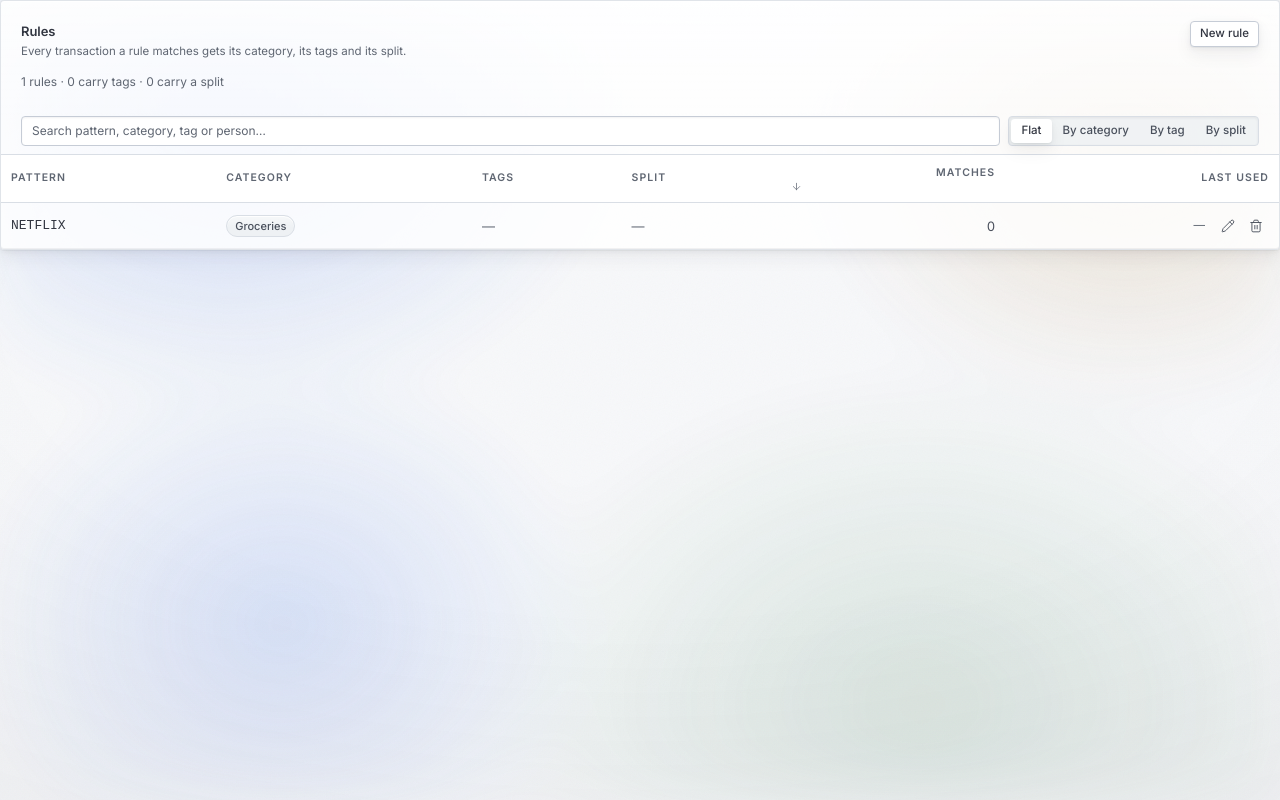
Scenario: MappingsSection CRUD › cancels an inline edit without saving
Expected: the text "NETFLIX" is shown, [1,202,216,249]
Click the button named "edit rule for NETFLIX": {"x": 1228, "y": 226} [1215,213,1241,239]
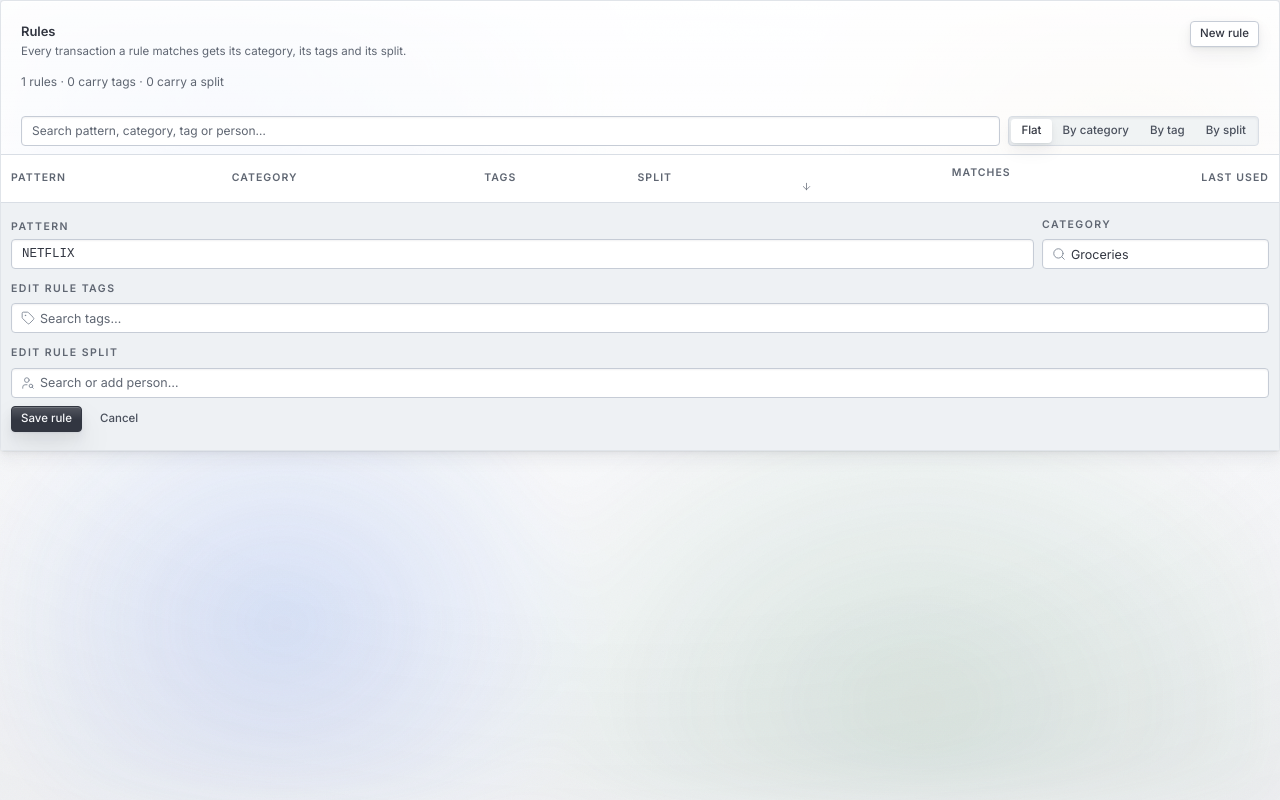
In the field named "Edit rule pattern": {"x": 522, "y": 254} [11,239,1034,269], type " MODIFIED"
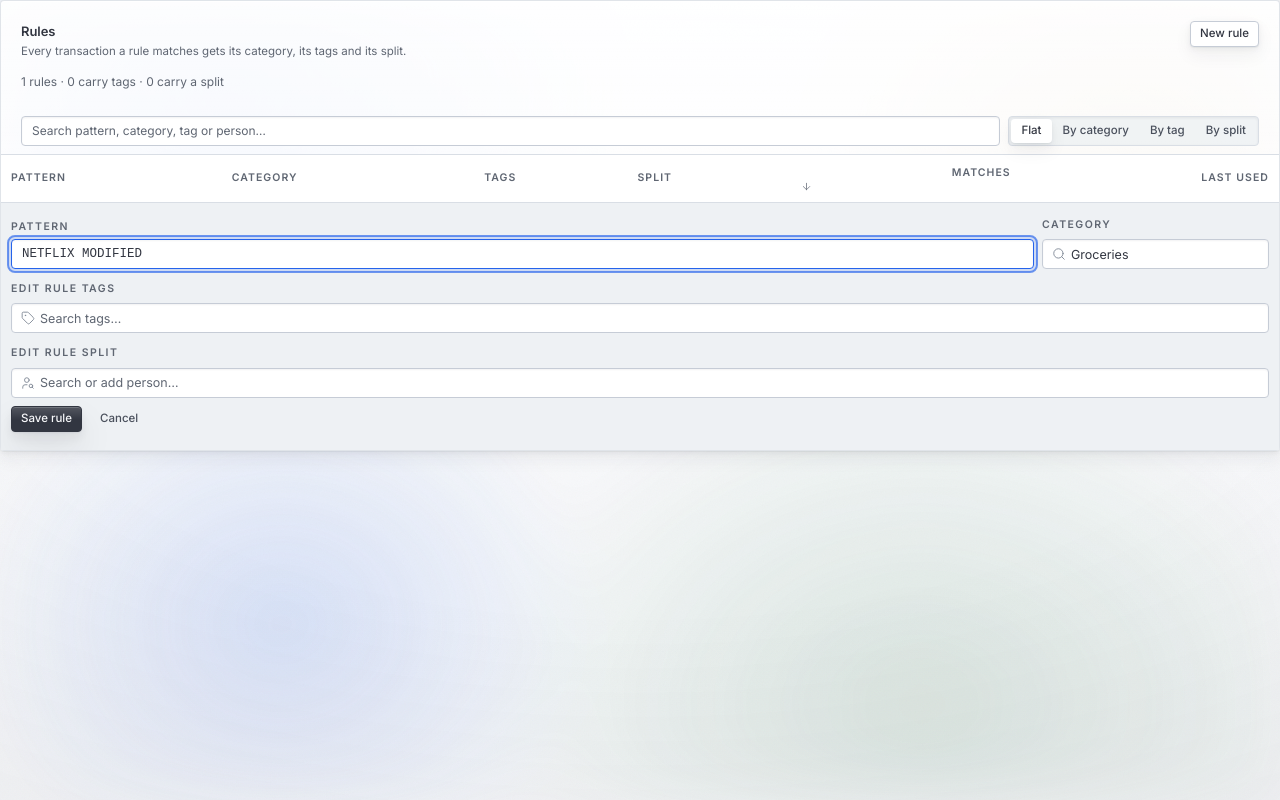
Click the button "Cancel": {"x": 119, "y": 419} [90,406,148,432]
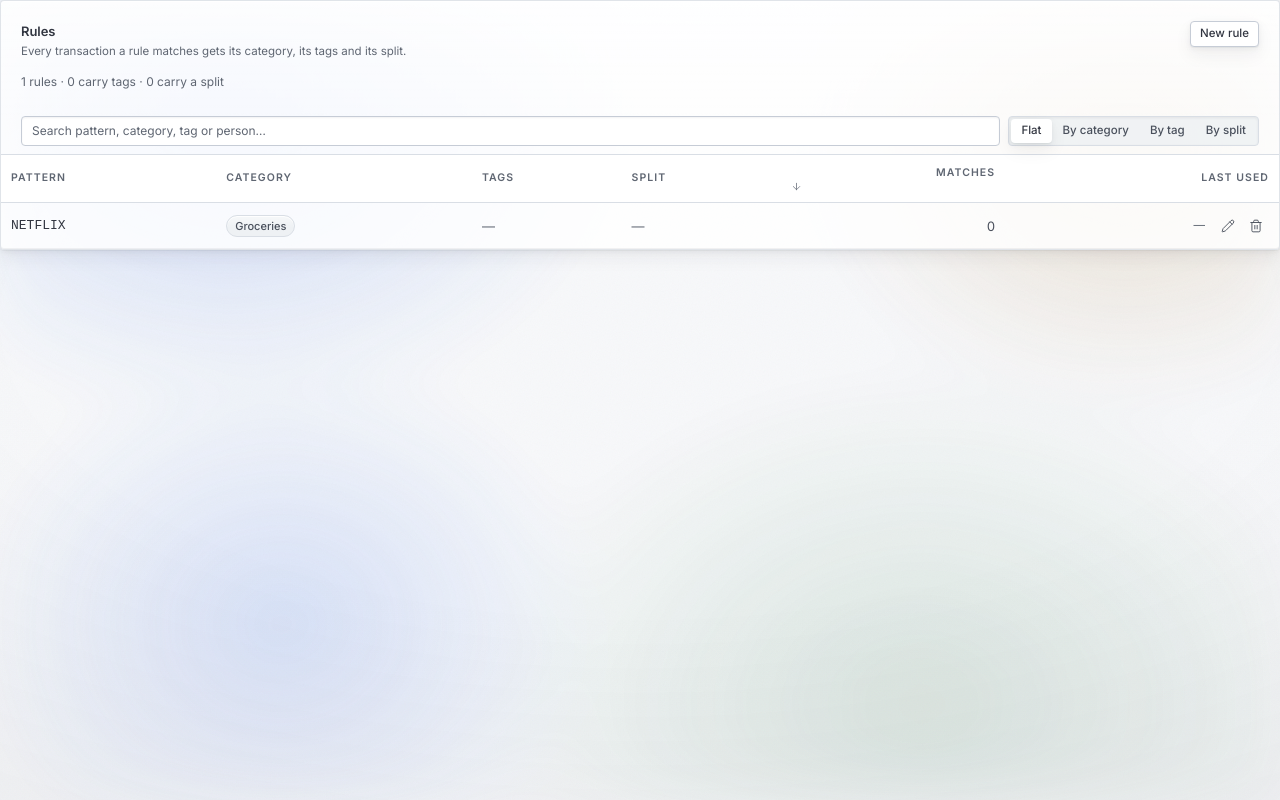
Expected: the text "NETFLIX" is shown, [1,202,216,249]
Expected: the field labelled "Edit rule pattern" is gone
